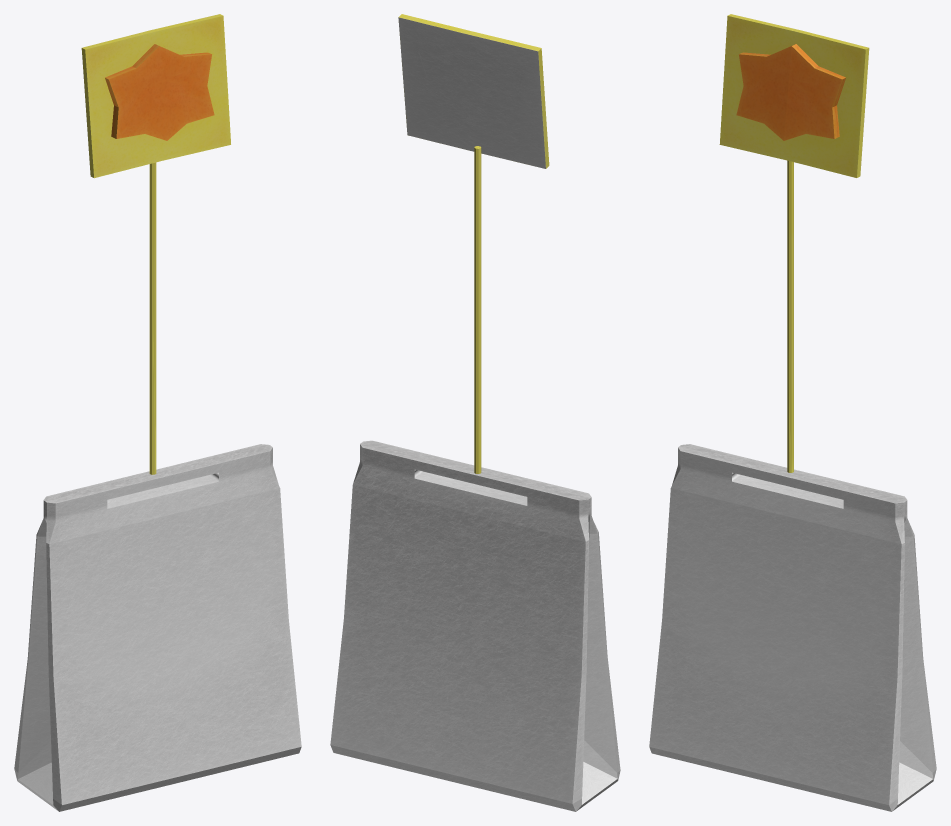
File: Tea_Bag_02_low.fbx
The picture shows the model from 3 angles, left to right: view 1: azimuth 30°, elevation 25°; view 2: azimuth 150°, elevation 25°; view 3: azimuth 330°, elevation 25°; orthographic projection.
Visible parts, largest first — view 1: Tea_Bag_02; view 2: Tea_Bag_02; view 3: Tea_Bag_02.
Part boxes in pixels (x1,y1,x2,y2): Tea_Bag_02: (14, 14, 301, 811); Tea_Bag_02: (330, 14, 620, 811); Tea_Bag_02: (649, 14, 936, 811).
Bounding box in the file's own units: 170 × 485 × 57.22.
